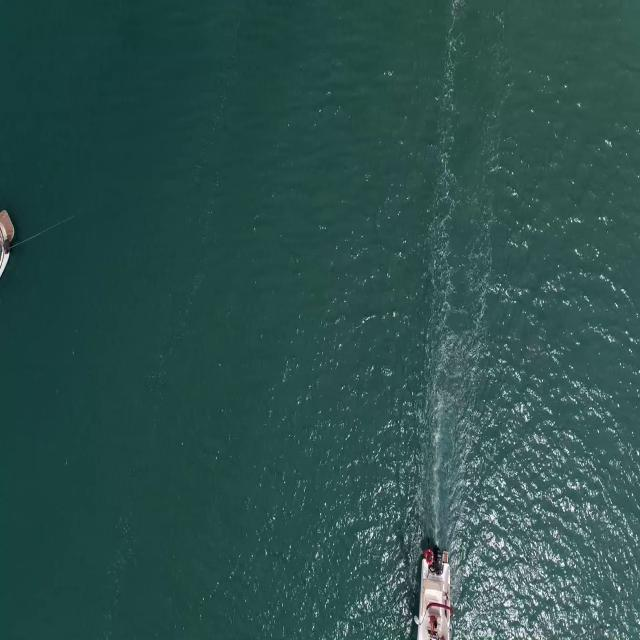boat: (413, 559, 454, 640)
life_buoy: (424, 546, 436, 566)
person: (428, 613, 438, 637)
